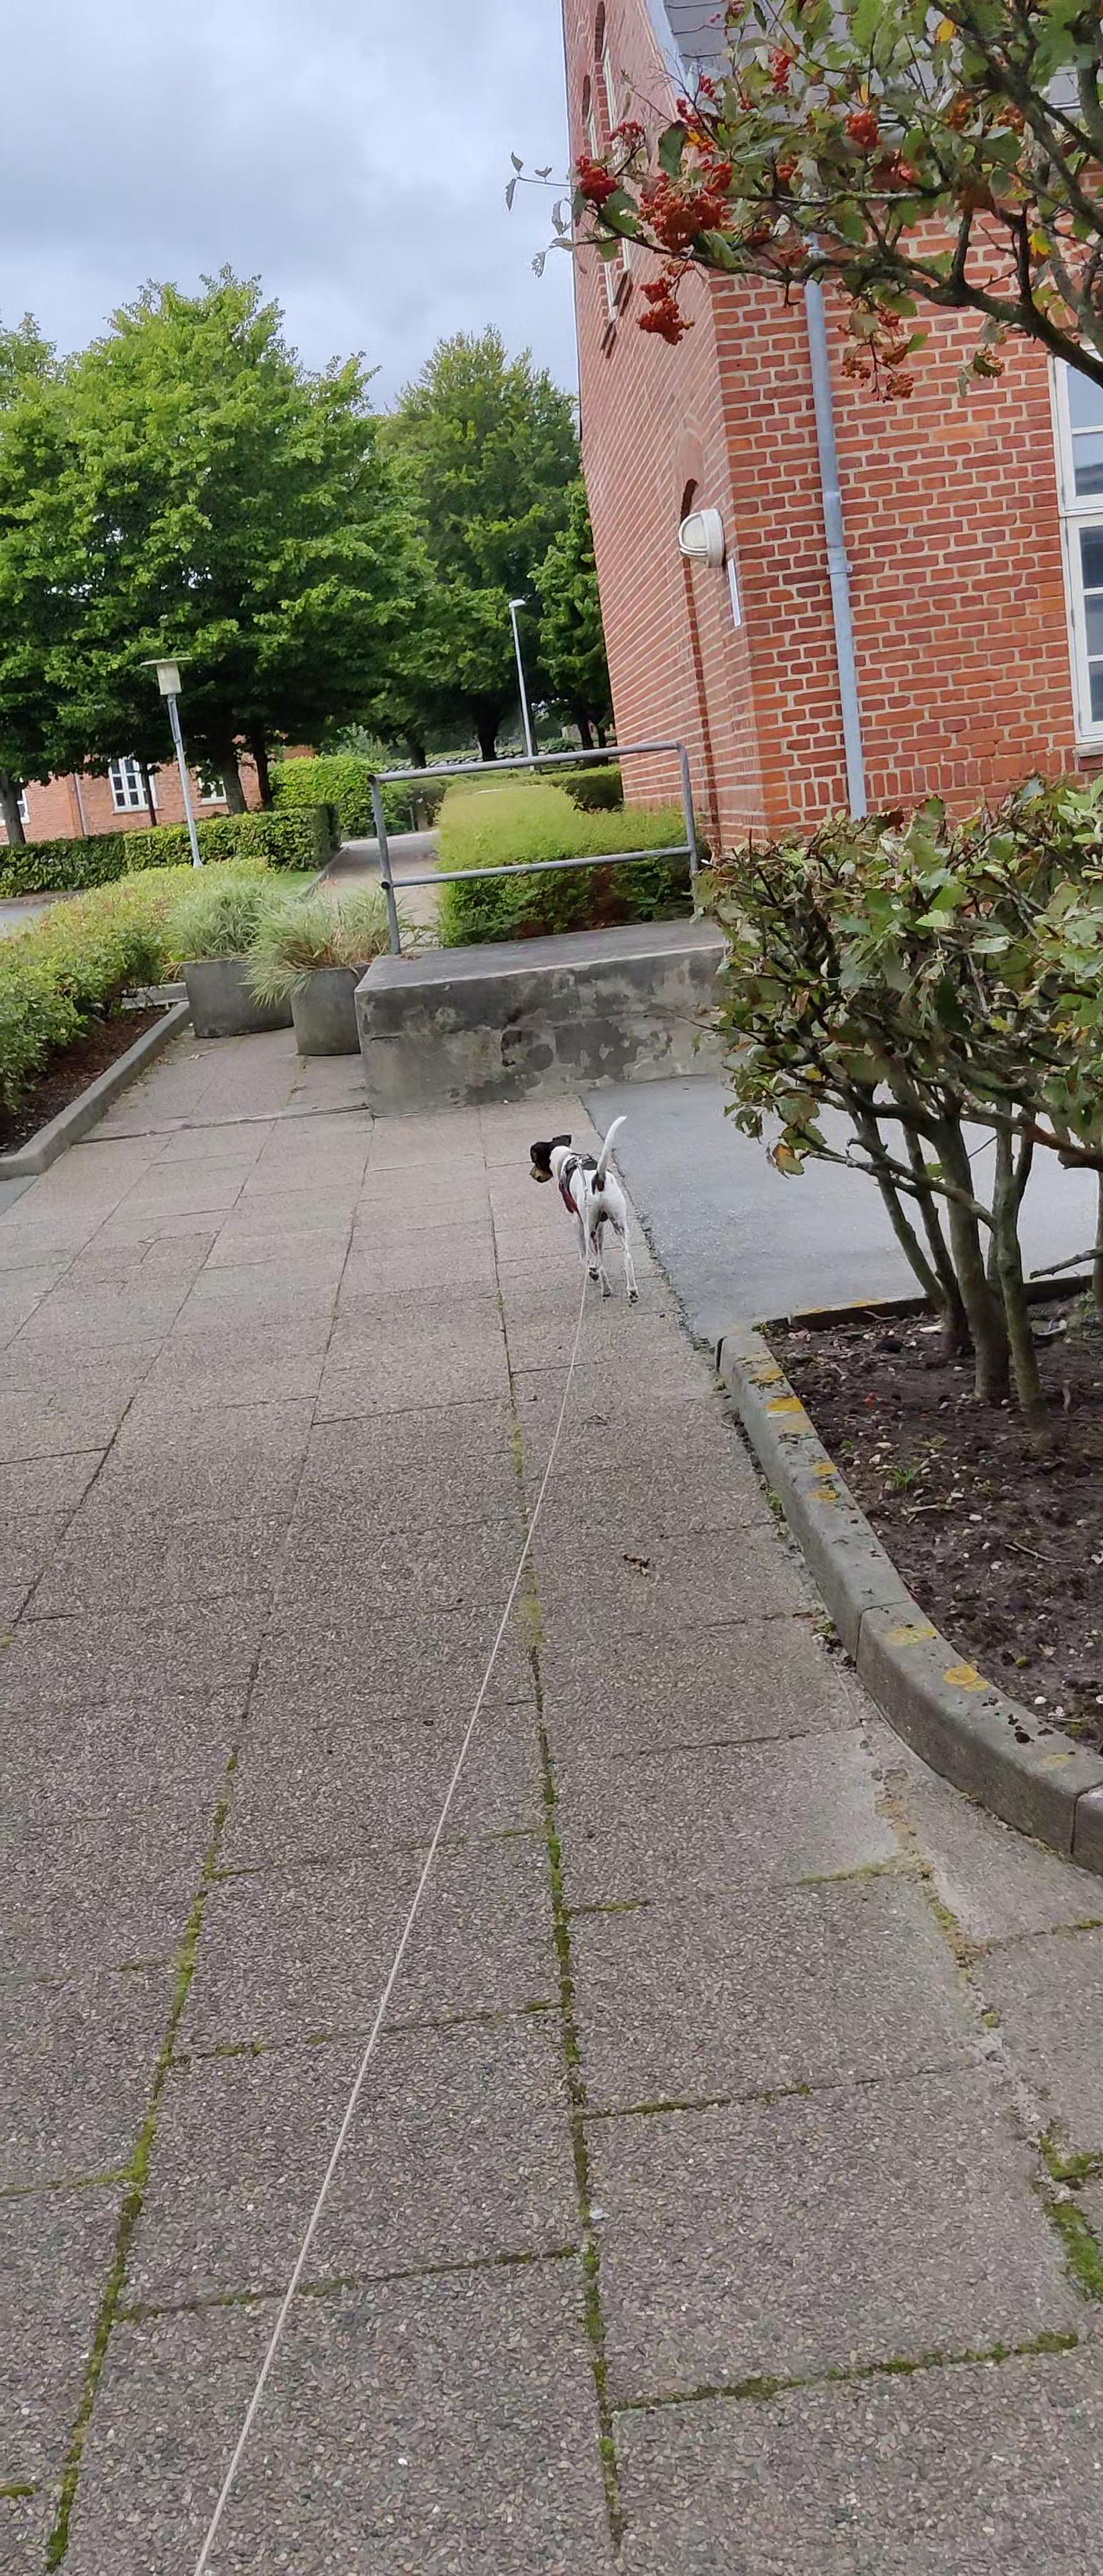Dog: (521, 1111, 653, 1313)
